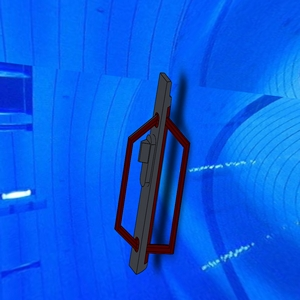submarine: (108, 65, 204, 276)
